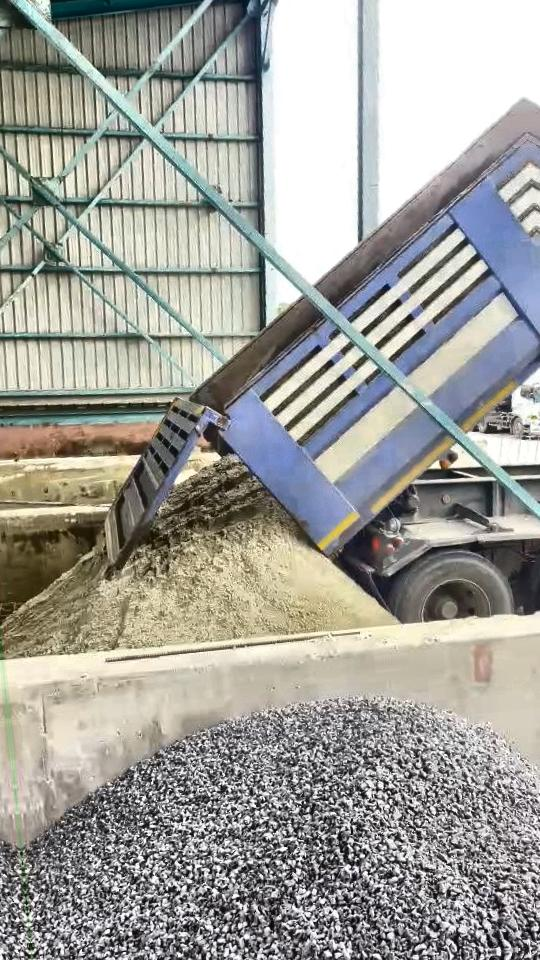gravel: (26, 700, 540, 960)
sand: (3, 457, 395, 657)
